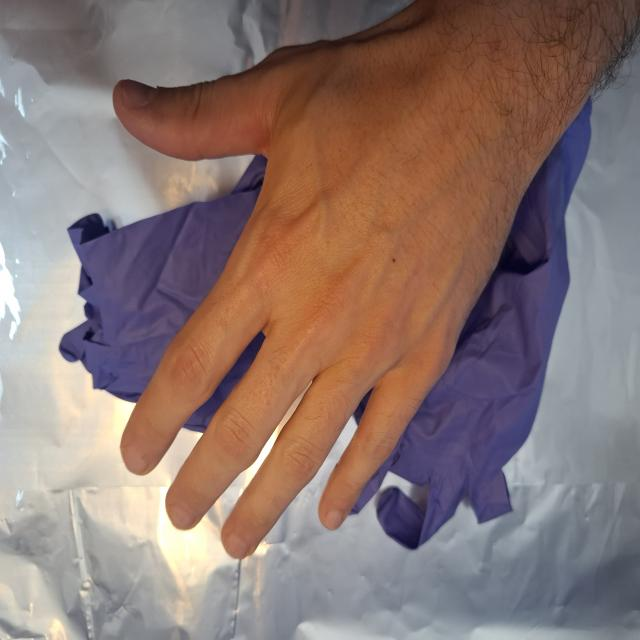glove_off: (111, 19, 521, 562)
